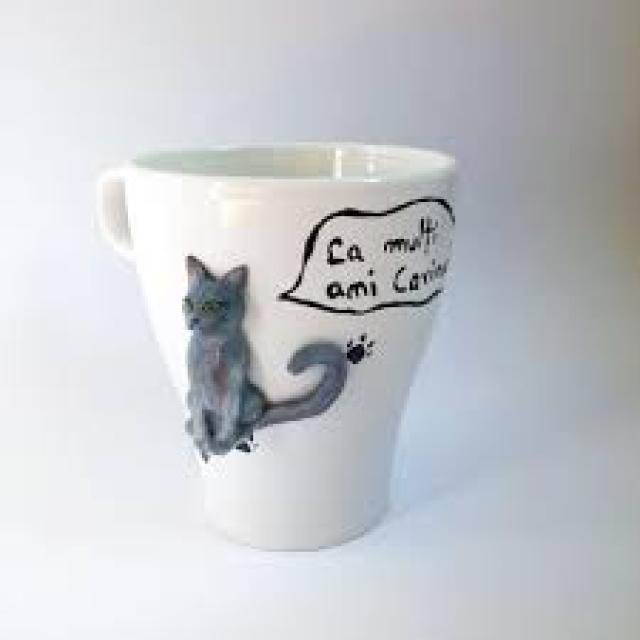taza: (80, 125, 472, 558)
